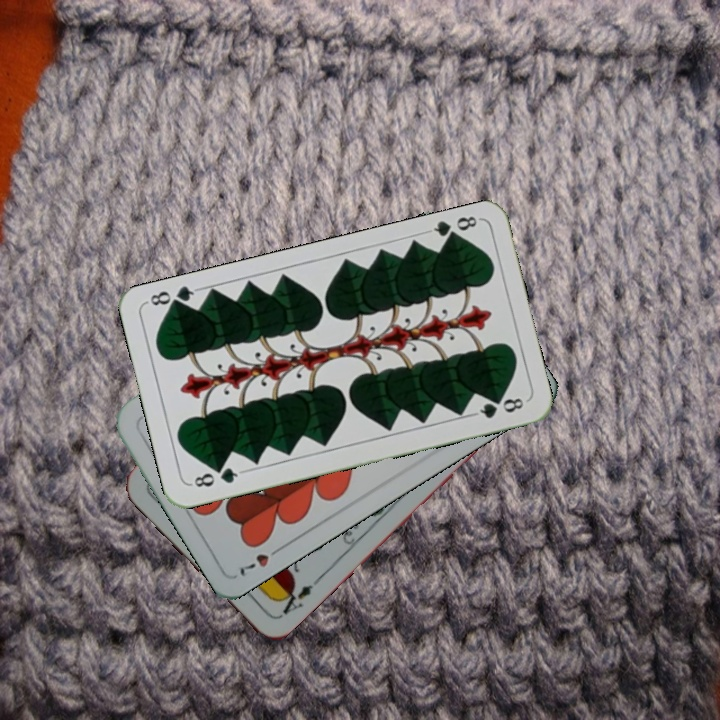EA: (272, 580, 316, 621)
G8: (423, 212, 482, 245), (187, 463, 245, 490)
H7: (235, 541, 286, 579)
